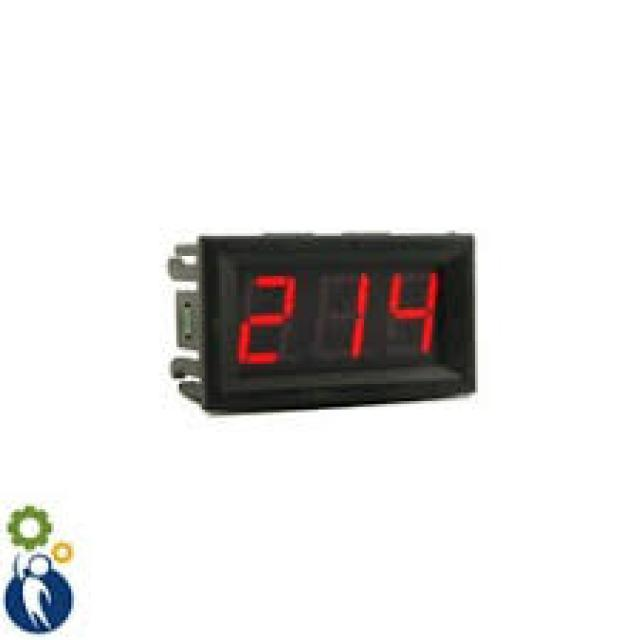1: (335, 256, 388, 367)
2: (225, 253, 312, 370)
4: (389, 254, 454, 359)
screen: (234, 259, 455, 373)
